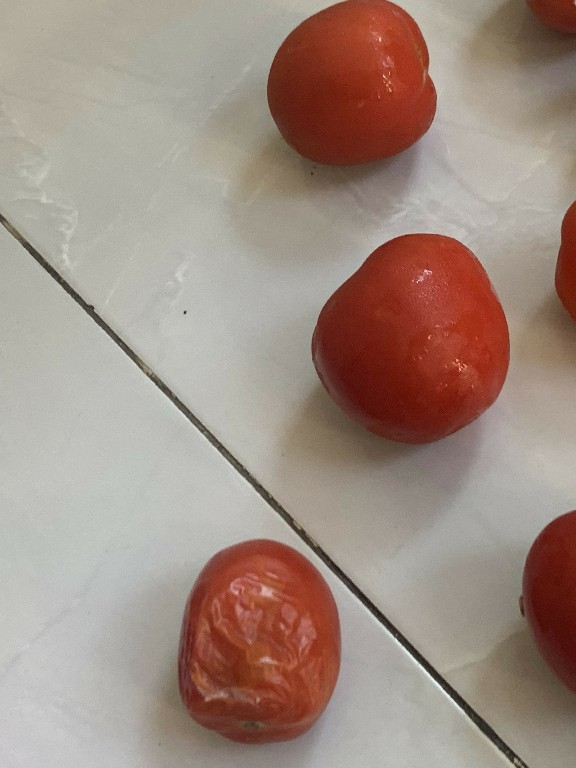NG: (161, 531, 353, 757)
OK: (288, 219, 531, 454), (254, 2, 442, 170)
